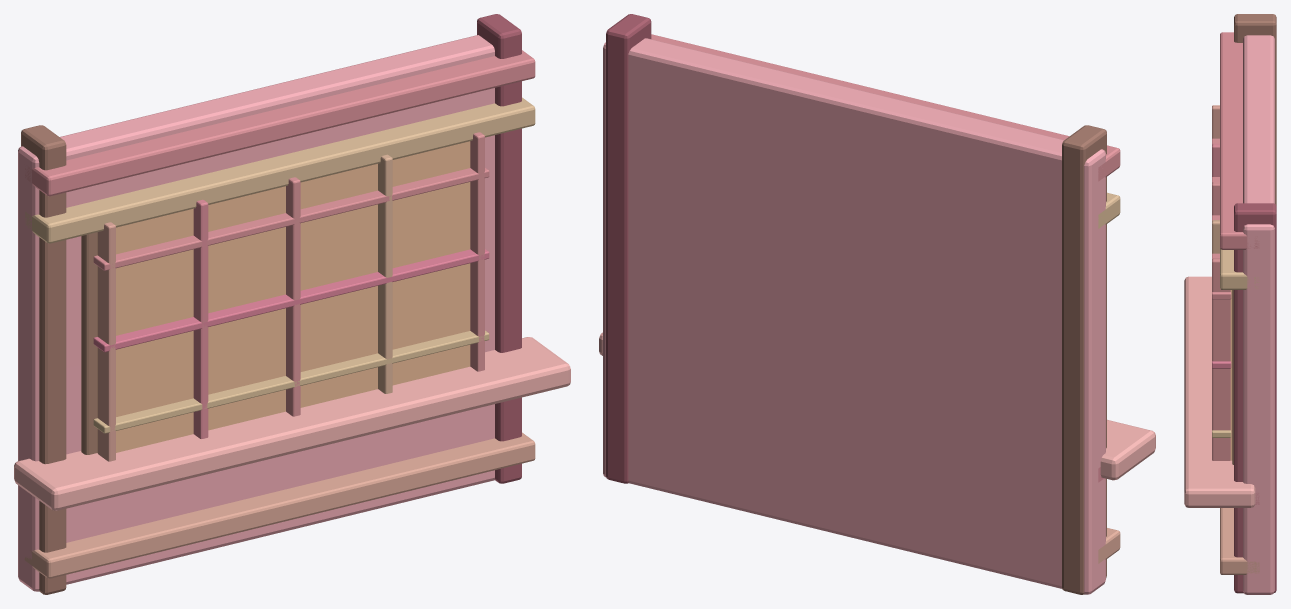
The model's file is WC_RIVER_Wall_Window_A.glb.
The picture shows the model from 3 angles, left to right: view 1: azimuth 30°, elevation 25°; view 2: azimuth 150°, elevation 25°; view 3: azimuth 270°, elevation 25°; orthographic projection. The views are drawn at different scales.
Parts seen in each view (by area): view 1: WC_RIVER_Wall_Window_A_RenderMesh; view 2: WC_RIVER_Wall_Window_A_RenderMesh; view 3: WC_RIVER_Wall_Window_A_RenderMesh.
Part boxes in pixels (box(x1,y1,x2,y2)): WC_RIVER_Wall_Window_A_RenderMesh: box(14, 14, 570, 594); WC_RIVER_Wall_Window_A_RenderMesh: box(599, 14, 1155, 594); WC_RIVER_Wall_Window_A_RenderMesh: box(1184, 14, 1276, 594).
Bounding box in the file's own units: 2.87 × 2.38 × 0.52.
